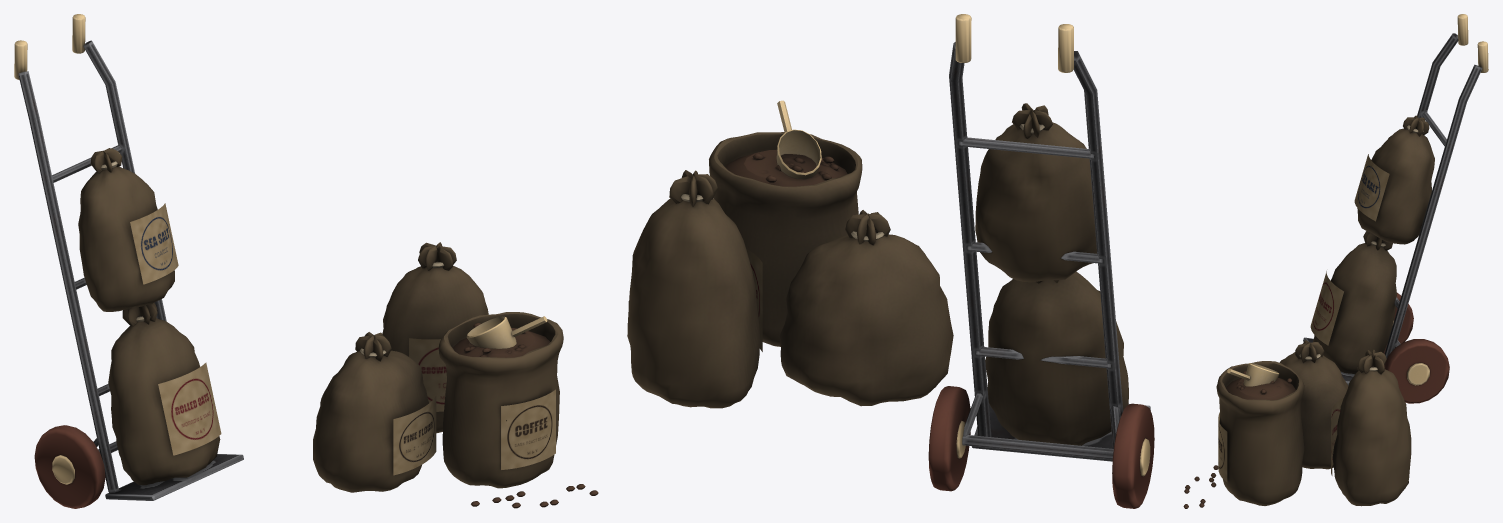
Rendered from StockSacks.fbx.
3 views of the same model, side by side, from view 1: azimuth 30°, elevation 25°; view 2: azimuth 150°, elevation 25°; view 3: azimuth 270°, elevation 25° (orthographic). The views are drawn at different scales.
Visible parts, largest first — view 1: StockSacks; view 2: StockSacks; view 3: StockSacks.
Boxes of the visible parts, x1,y1,x2,y2 form: StockSacks: (14, 14, 598, 508); StockSacks: (627, 14, 1154, 508); StockSacks: (1183, 14, 1488, 508).
Bounding box in the file's own units: 443 × 418 × 341.
